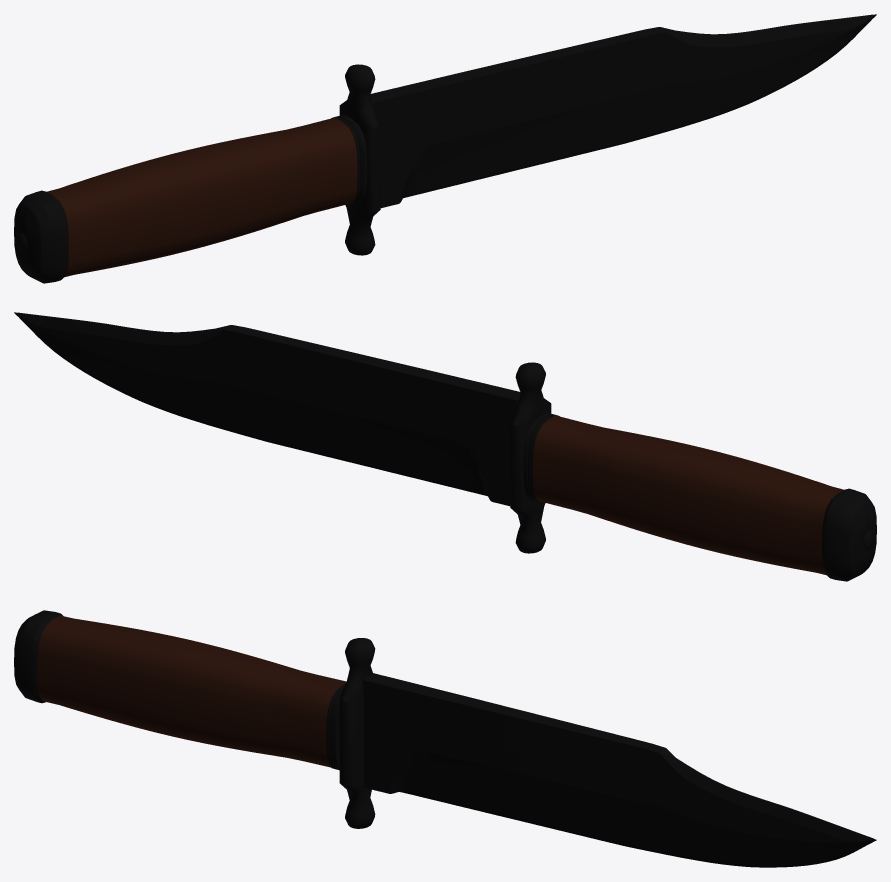
Rendered from k_bowie.glb.
3 views of the same model, one above another, from view 1: azimuth 30°, elevation 25°; view 2: azimuth 150°, elevation 25°; view 3: azimuth 330°, elevation 25° (orthographic).
Visible parts, largest first — view 1: SM_W_k_bowie; view 2: SM_W_k_bowie; view 3: SM_W_k_bowie.
Boxes of the visible parts, bbox=[...] form: SM_W_k_bowie: bbox=[14, 14, 876, 283]; SM_W_k_bowie: bbox=[14, 312, 876, 581]; SM_W_k_bowie: bbox=[14, 610, 876, 867].
Bounding box in the file's own units: 0.3405 × 0.0708 × 0.0248.
